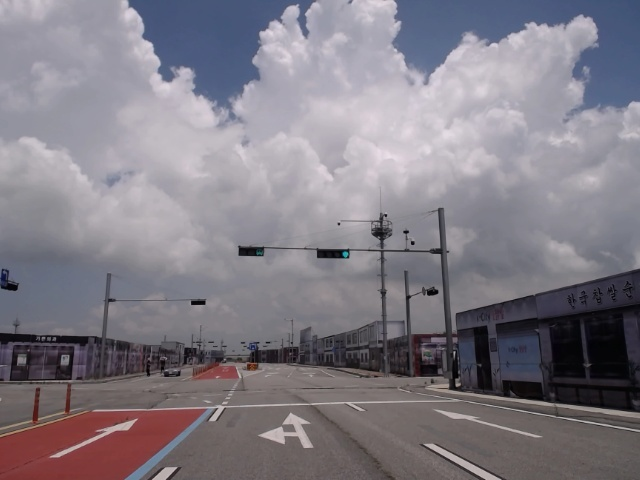straight_green_4: (316, 248, 349, 258)
